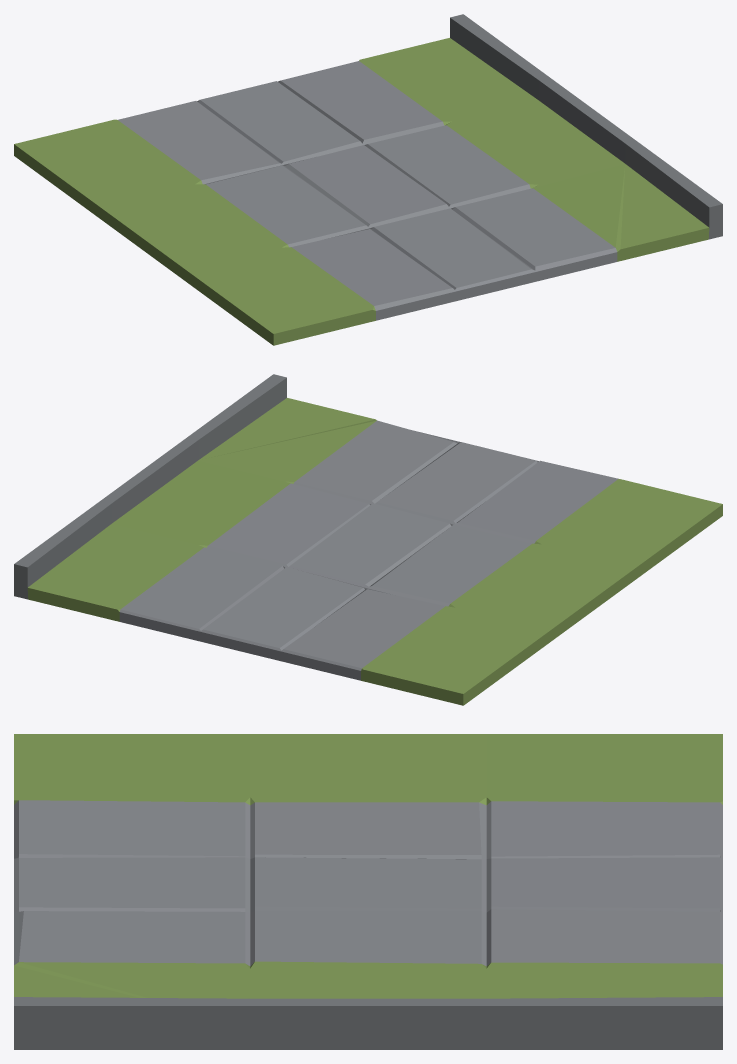
Rendered from Road_008-col.glb.
The picture shows the model from 3 angles, top to bottom: view 1: azimuth 30°, elevation 25°; view 2: azimuth 150°, elevation 25°; view 3: azimuth 270°, elevation 25°; orthographic projection. The views are drawn at different scales.
Parts seen in each view (by area): view 1: Sidewalk_01_A-col; view 2: Sidewalk_01_A-col; view 3: Sidewalk_01_A-col.
Boxes of the visible parts, x1,y1,x2,y2 form: Sidewalk_01_A-col: [14, 14, 722, 345]; Sidewalk_01_A-col: [14, 374, 722, 705]; Sidewalk_01_A-col: [14, 734, 722, 1049].
Size of the model in its own units: 2 by 0.1361 by 2.
Materials: 1 (1 with a texture image).
